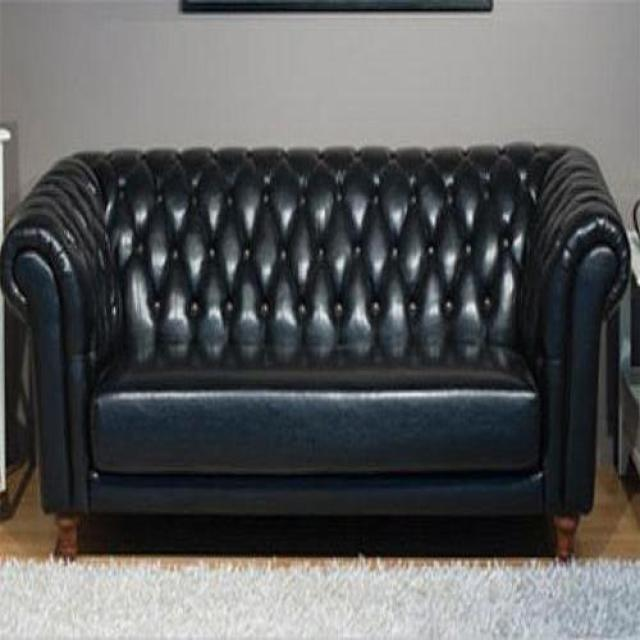sofa: (0, 143, 634, 521)
